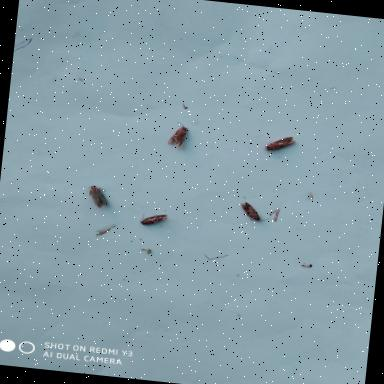pbw: (79, 182, 112, 212), (166, 120, 196, 152), (237, 200, 275, 225), (264, 132, 299, 156), (138, 210, 176, 230)
